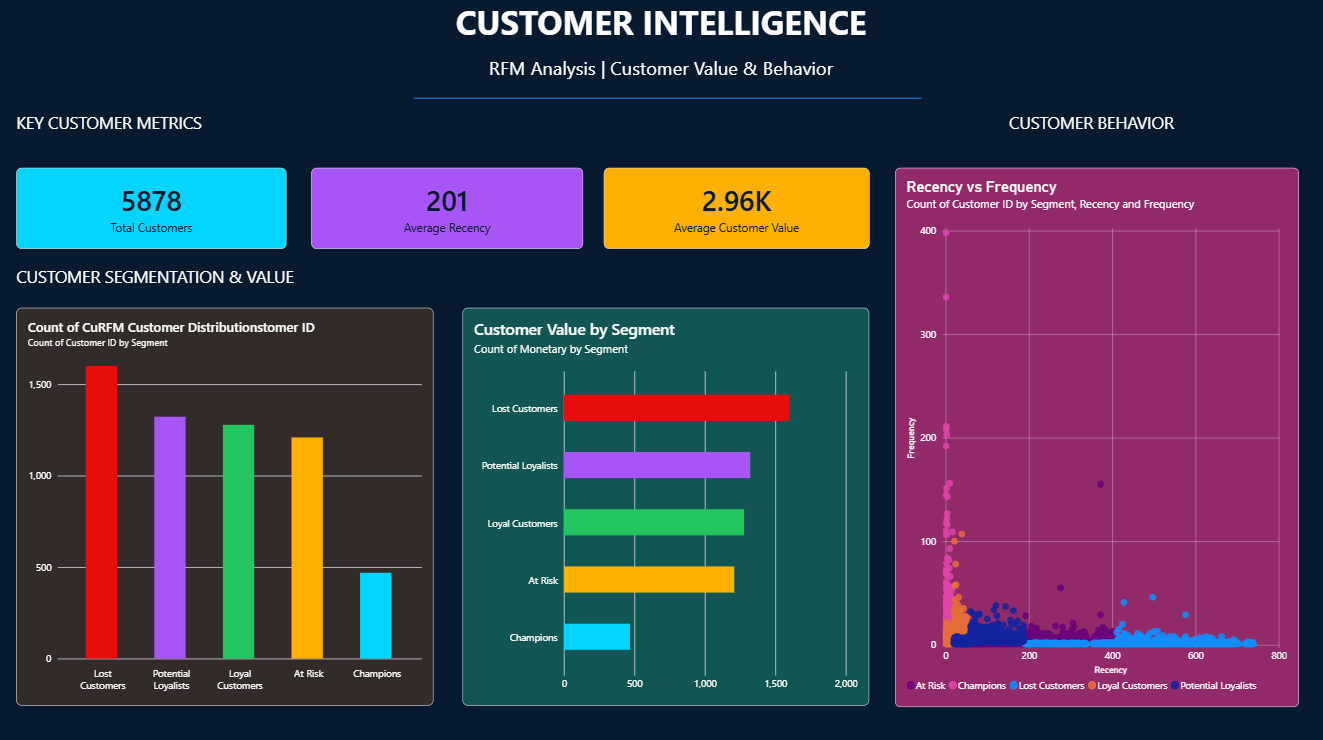

The dashboard page shown, as its layout file describes it:
{"tool":"powerbi","page":{"name":"Customer Intelligence","canvas":[1920,1080],"ordinal":1},"visuals":[{"type":"textbox","box":[9.3,0,1896.3,81.5],"z":0},{"type":"textbox","box":[9.3,81.5,1896.3,61.1],"z":1000},{"type":"shape","box":[598.1,68.5,735.2,150],"z":2000},{"type":"card","fields":{"Values":["Sales.Total Customers"]},"box":[23.9,243.5,391.3,117.4],"z":3000},{"type":"textbox","box":[24.1,163,442.6,55.6],"z":4000},{"type":"card","fields":{"Values":["Customer_RFM.Average Recency"]},"box":[450,243.5,393.5,117.4],"z":5000},{"type":"card","fields":{"Values":["Customer_RFM.Average Customer Value"]},"box":[873.9,243.5,384.8,117.4],"z":6000},{"type":"textbox","box":[24.1,385.2,475.9,85.2],"z":7000},{"type":"textbox","box":[1258.7,163,647.8,95.7],"z":8000},{"type":"clusteredColumnChart","title":"Count of CuRFM Customer Distributionstomer ID","fields":{"Category":["Customer_RFM.Segment"],"Y":["CountNonNull(Customer_RFM.Customer ID)"]},"box":[23.9,447.8,604.3,576.1],"z":9000},{"type":"clusteredBarChart","title":"Customer Value by Segment","fields":{"Category":["Customer_RFM.Segment"],"Y":["CountNonNull(Customer_RFM.Monetary)"]},"box":[669.6,447.8,589.1,576.1],"z":10000},{"type":"scatterChart","title":"Recency vs Frequency","fields":{"X":["Customer_RFM.Recency"],"Y":["Customer_RFM.Frequency"],"Series":["Customer_RFM.Segment"]},"box":[1295.7,243.5,584.8,780.4],"z":11000}]}

Visuals, with their boxes in screenshot pixels (x1, y1, x2, y2), scaled from the page's 1920x1080 canvas onto the 1323x740 screenshot:
textbox: l=6, t=0, r=1313, b=56
textbox: l=6, t=56, r=1313, b=98
shape: l=412, t=47, r=919, b=150
card - Sales.Total Customers: l=16, t=167, r=286, b=247
textbox: l=17, t=112, r=322, b=150
card - Customer_RFM.Average Recency: l=310, t=167, r=581, b=247
card - Customer_RFM.Average Customer Value: l=602, t=167, r=867, b=247
textbox: l=17, t=264, r=345, b=322
textbox: l=867, t=112, r=1314, b=177
"Count of CuRFM Customer Distributionstomer ID" clusteredColumnChart: l=16, t=307, r=433, b=702
"Customer Value by Segment" clusteredBarChart: l=461, t=307, r=867, b=702
"Recency vs Frequency" scatterChart: l=893, t=167, r=1296, b=702
